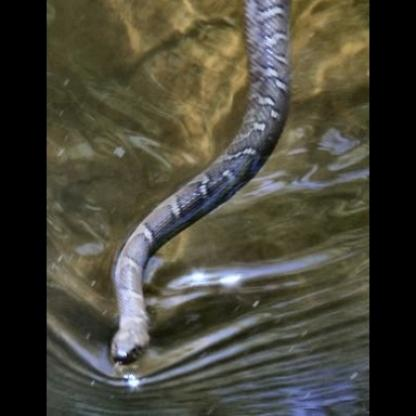Snake: (103, 0, 294, 373)
